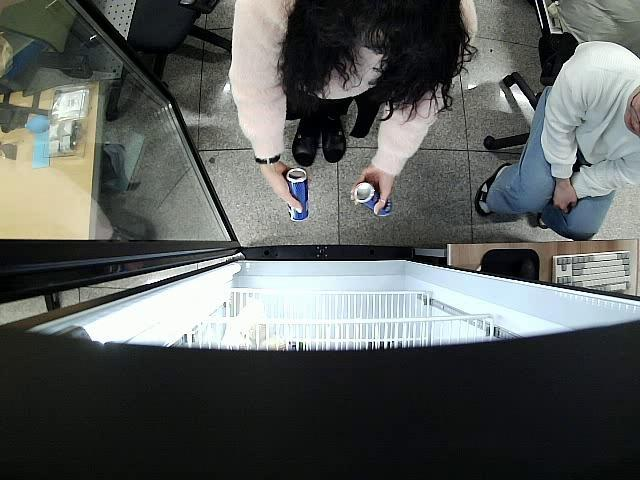16_hot6: (285, 166, 310, 222), (353, 183, 392, 218)
